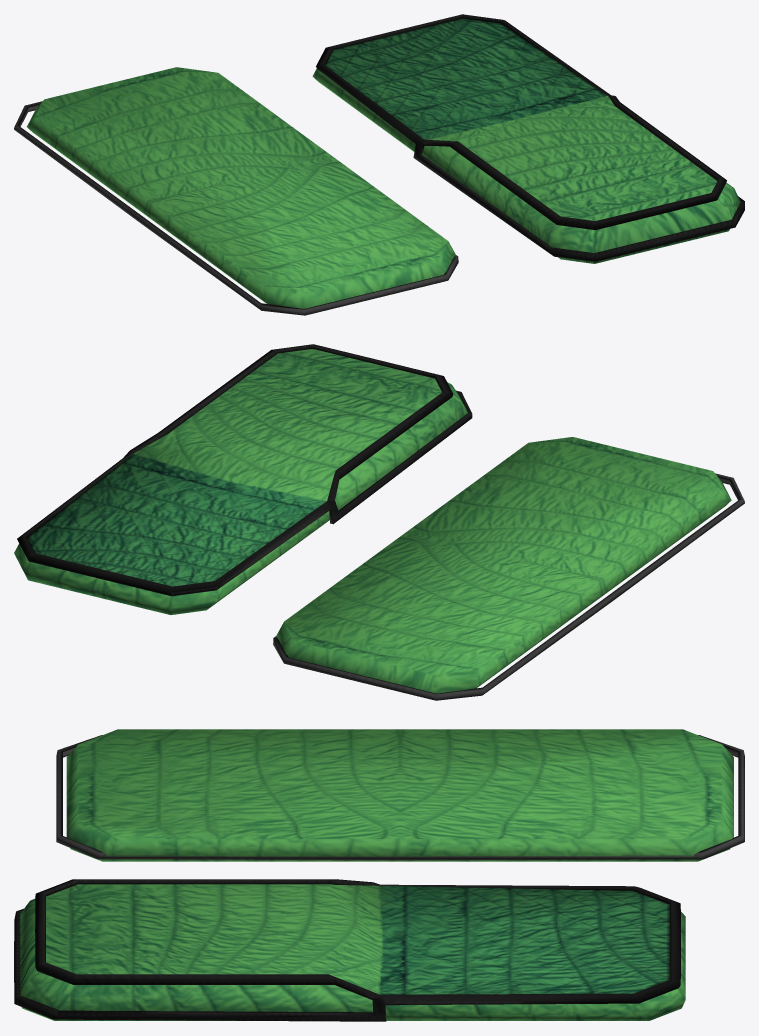
File: SleepingBags_Green.obj
3 views of the same model, one above another, from view 1: azimuth 30°, elevation 25°; view 2: azimuth 150°, elevation 25°; view 3: azimuth 270°, elevation 25° (orthographic). The views are drawn at different scales.
Visible parts, largest first — view 1: Cube.020_Material.004, Cube.014_Material.004, Cube.021_Material.005, Cube.007_Material.003; view 2: Cube.020_Material.004, Cube.014_Material.004, Cube.021_Material.005, Cube.007_Material.003; view 3: Cube.020_Material.004, Cube.014_Material.004, Cube.021_Material.005, Cube.007_Material.003.
Boxes of the visible parts, x1=… form: Cube.020_Material.004: x1=27, y1=67, x2=455, y2=308; Cube.014_Material.004: x1=312, y1=18, x2=740, y2=263; Cube.021_Material.005: x1=316, y1=14, x2=744, y2=261; Cube.007_Material.003: x1=14, y1=101, x2=458, y2=315; Cube.020_Material.004: x1=276, y1=437, x2=731, y2=693; Cube.014_Material.004: x1=14, y1=349, x2=467, y2=614; Cube.021_Material.005: x1=17, y1=344, x2=472, y2=596; Cube.007_Material.003: x1=273, y1=473, x2=744, y2=700; Cube.020_Material.004: x1=66, y1=729, x2=733, y2=861; Cube.014_Material.004: x1=20, y1=884, x2=685, y2=1020; Cube.021_Material.005: x1=14, y1=879, x2=680, y2=1021; Cube.007_Material.003: x1=56, y1=735, x2=744, y2=860.
Bounding box in the file's own units: 1.99 × 0.1365 × 2.18.
